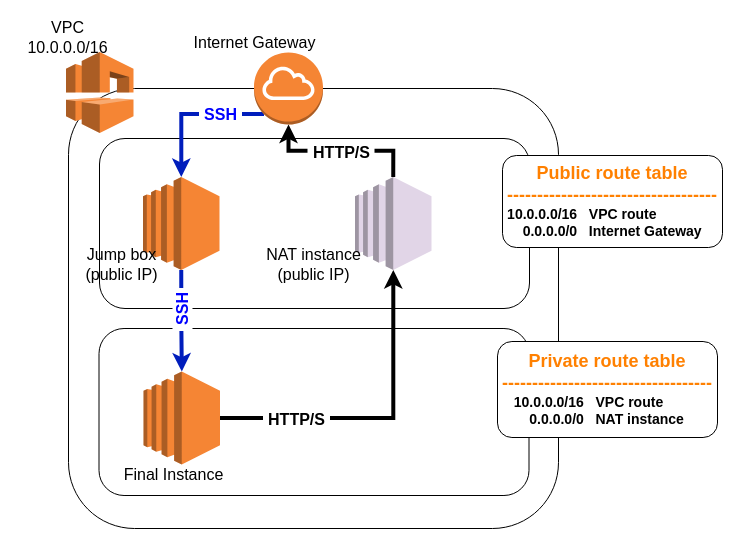
This 740x546 diagram has some shape labels left out. Each missing label, with the box of its shape:
Private subnet 10.0.1.0/24: (98, 138, 530, 308)
Private subnet 10.0.11.0/24: (98, 328, 529, 496)
